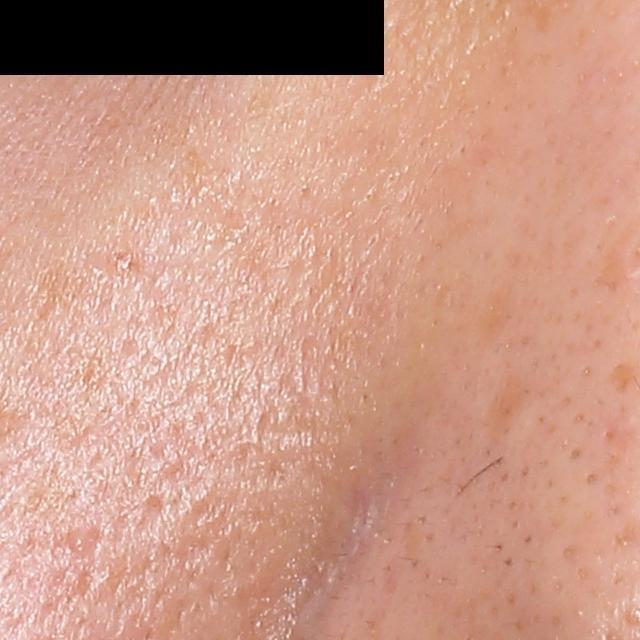atrophic_scar: (609, 359, 638, 396)
